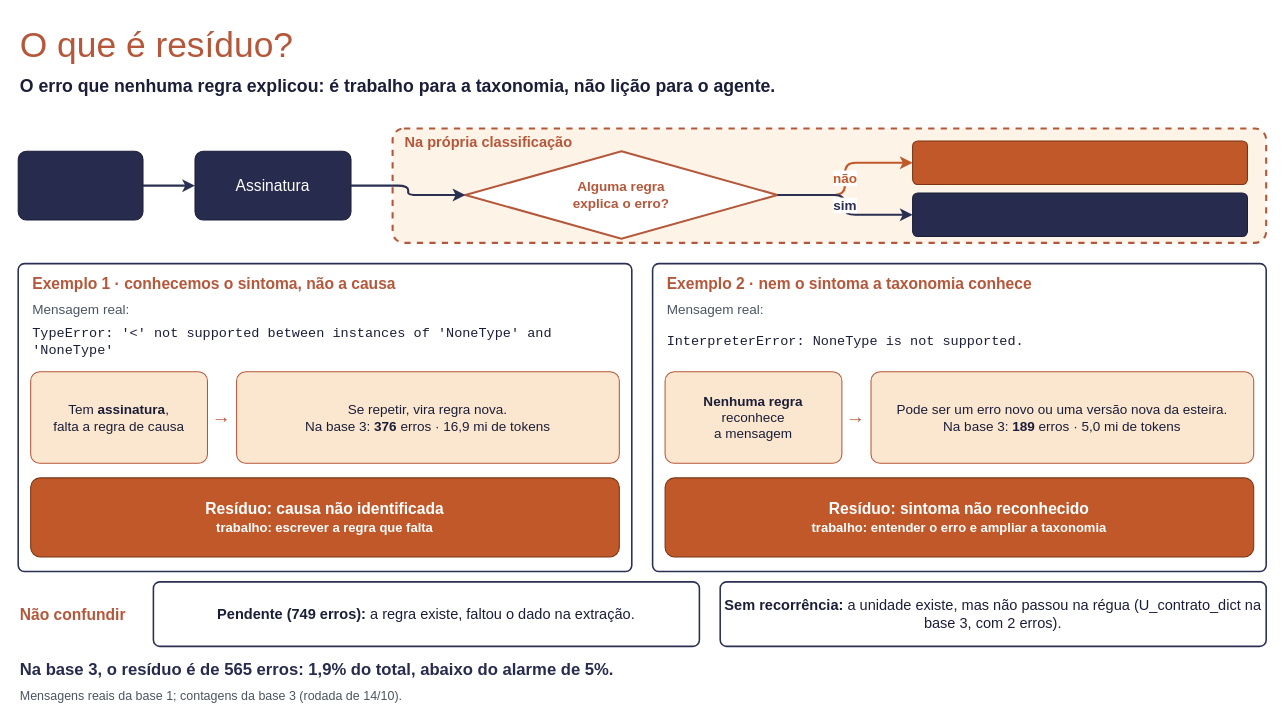
Some shapes in this 1285 by 726 pixel diagram are drawn without their labels. The box of each missing label's shape, as (x1, y1, x2, y2) in pixels:
Destino: resíduo: (912, 140, 1247, 185)
Erro: (17, 150, 143, 220)
Segue para a unidade: (912, 192, 1247, 237)
